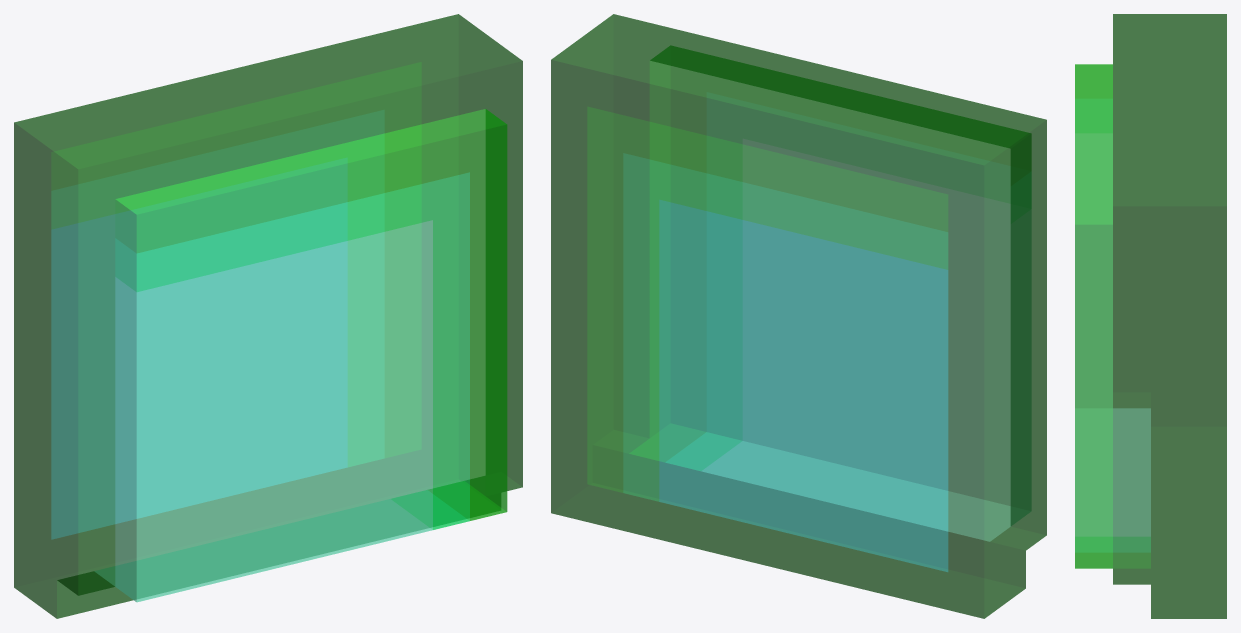
File: screen_green.glb
3 renders of one model, left to right at view 1: azimuth 30°, elevation 25°; view 2: azimuth 150°, elevation 25°; view 3: azimuth 270°, elevation 25°, orthographic. The views are drawn at different scales.
Visible parts, largest first — view 1: bb0 screen; view 2: bb0 screen; view 3: bb0 screen.
Part boxes in pixels (<box>): bb0 screen: <box>14,14,522,618</box>; bb0 screen: <box>551,14,1046,618</box>; bb0 screen: <box>1075,14,1226,618</box>.
Size of the model in its own units: 12 by 12 by 4.
